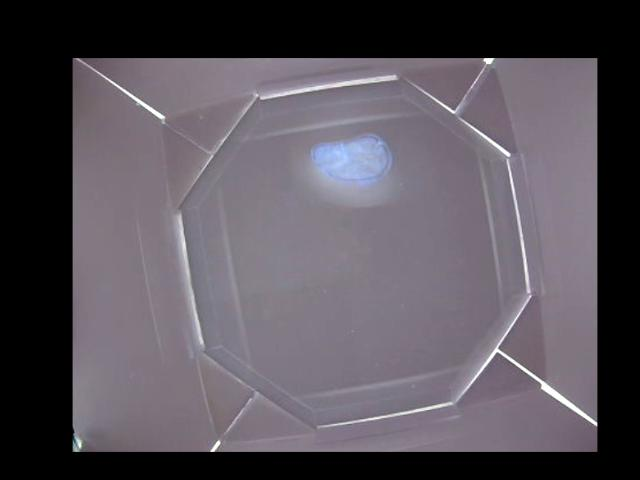Pebble: (308, 128, 389, 186)
